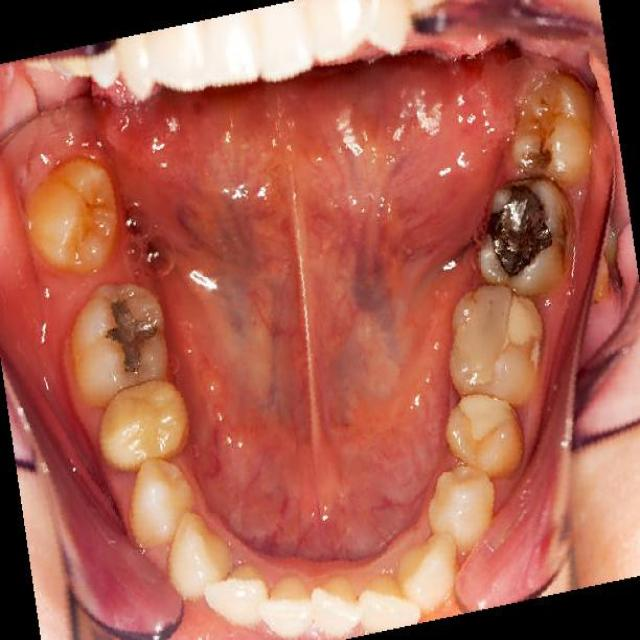caries: (488, 172, 562, 285), (92, 292, 167, 388), (522, 110, 564, 170)
